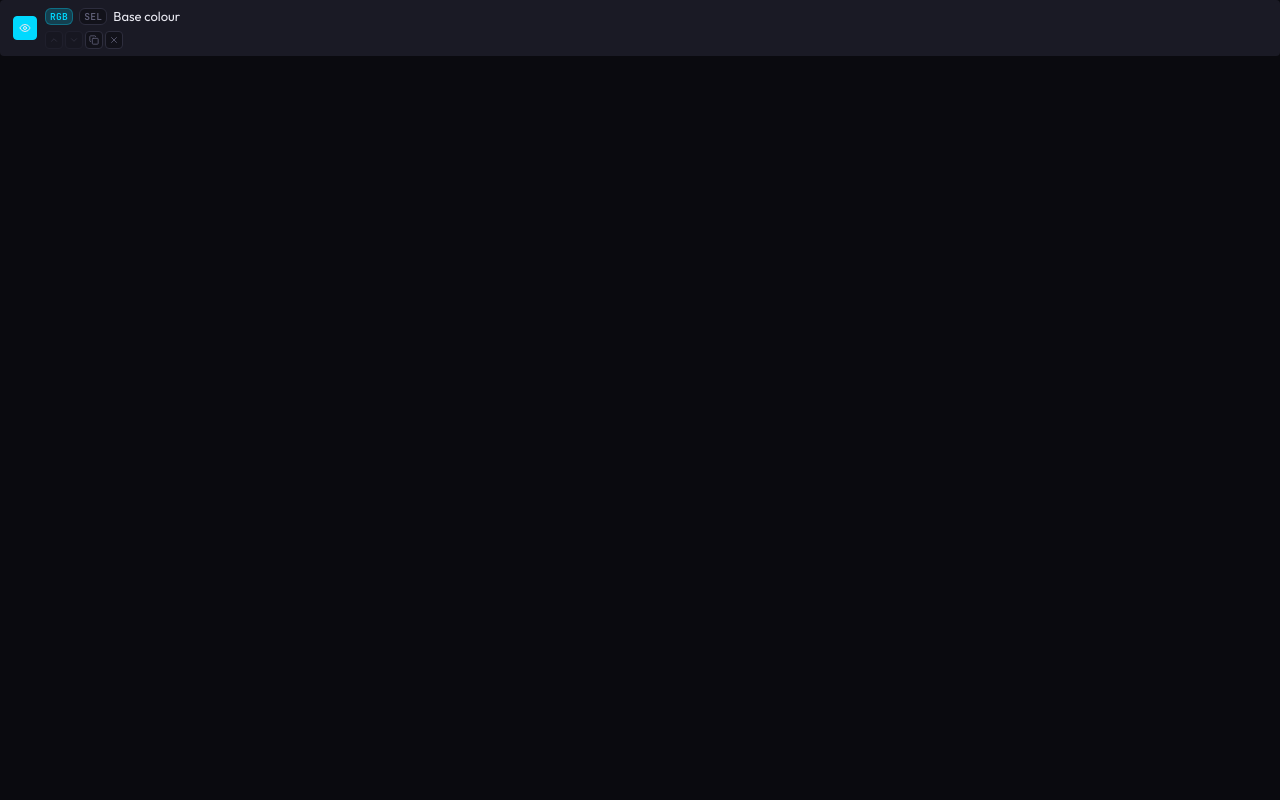
Test: the portal — the reason the menu is not clipped › Escape closes it and leaves nothing behind in the body
Click the button with aria-label "Channel:" at (59, 17), box [45,8,73,25]
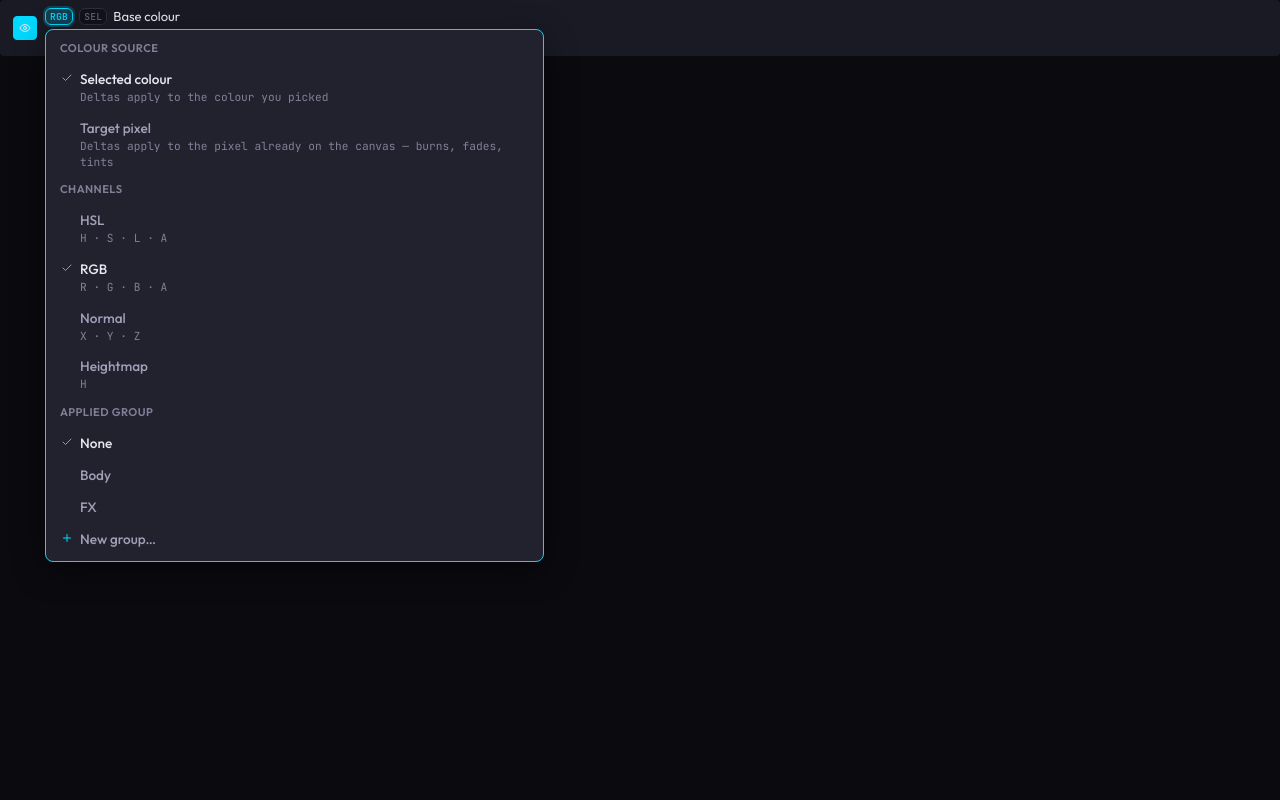
Expected: the menu is shown, [45,30,544,562]
Press Escape
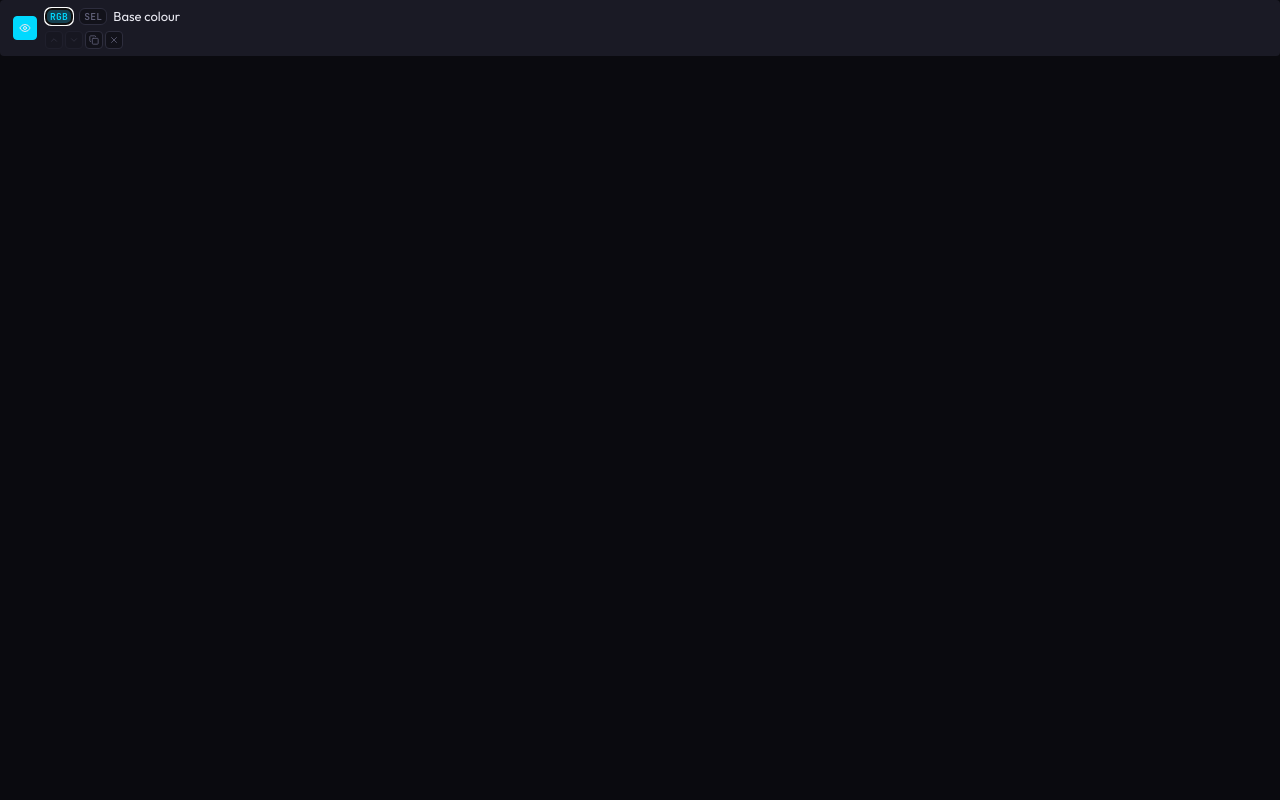
Expected: the menu is gone
Expected: the menu with class "brush-layer-panel__menu" is gone
Expected: the button with aria-label "Channel:" is collapsed, [45,8,73,25]
